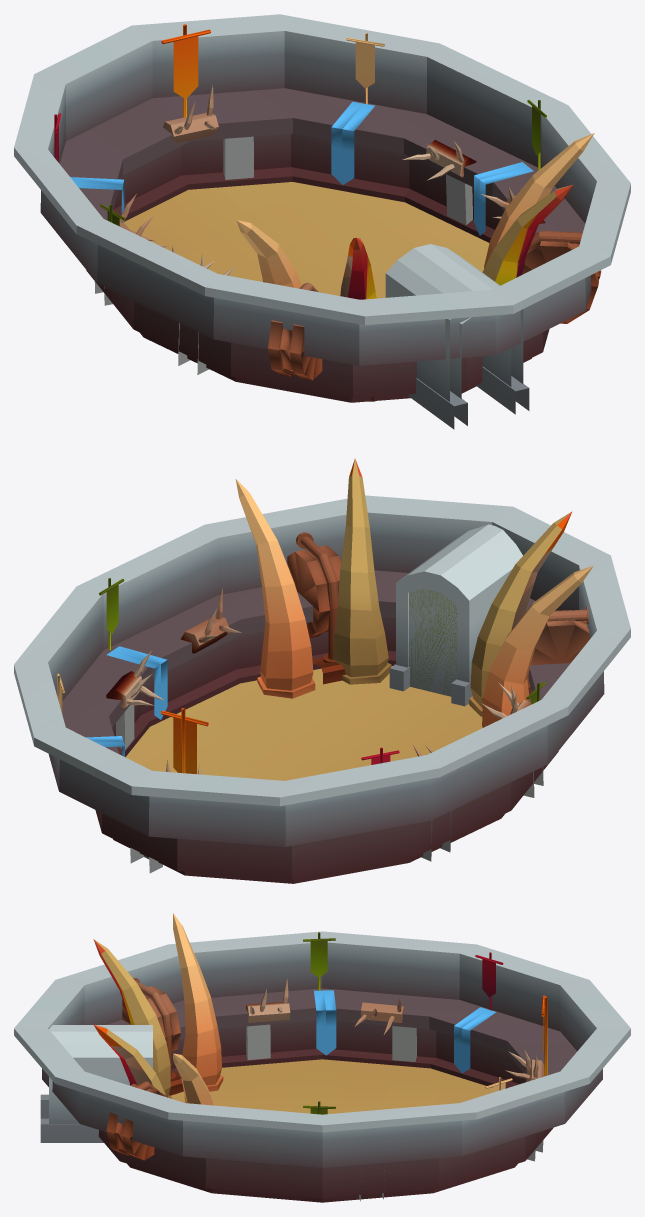
File: Arena.glb
The picture shows the model from 3 angles, top to bottom: view 1: azimuth 30°, elevation 25°; view 2: azimuth 150°, elevation 25°; view 3: azimuth 270°, elevation 25°; orthographic projection. The views are drawn at different scales.
Parts seen in each view (by area): view 1: Arena, Portal, Mechanism.002, Mechanism.005, Mechanism.003, Flags.002, Mechanism.001, Mechanism, FlagPole.003, Mechanism.004, WoodSpikes.003, Pillars.002 (+5 smaller); view 2: Arena, Portal, Mechanism.002, Mechanism.005, Mechanism.004, Mechanism.001, Mechanism, Mechanism.003, FlagPole.003, Flags.001, WoodSpikes.001, WoodSpikes.002 (+1 smaller); view 3: Arena, Portal, Mechanism.001, Mechanism.004, Mechanism.003, Mechanism.002, Mechanism, Flags, Flags.003, Mechanism.005, WoodSpikes.005, Pillars.003 (+5 smaller).
Boxes of the visible parts, box(x1,y1,x2,y2) form: Arena: box(14, 14, 630, 402); Portal: box(385, 244, 529, 429); Mechanism.002: box(482, 185, 572, 285); Mechanism.005: box(484, 133, 594, 268); Mechanism.003: box(268, 282, 322, 380); Flags.002: box(331, 101, 374, 184); Mechanism.001: box(236, 220, 301, 288); Mechanism: box(522, 229, 601, 323); FlagPole.003: box(161, 24, 210, 117); Mechanism.004: box(340, 237, 376, 401); WoodSpikes.003: box(163, 84, 218, 142); Pillars.002: box(223, 136, 253, 179); Arena: box(14, 495, 630, 883); Portal: box(389, 524, 522, 706); Mechanism.002: box(333, 458, 391, 684); Mechanism.005: box(235, 479, 315, 698); Mechanism.004: box(469, 511, 572, 716); Mechanism.001: box(482, 566, 593, 727); Mechanism: box(287, 532, 345, 684); Mechanism.003: box(527, 606, 589, 692); FlagPole.003: box(160, 708, 208, 773); Flags.001: box(106, 646, 167, 719); WoodSpikes.001: box(180, 588, 241, 653); WoodSpikes.002: box(106, 650, 164, 709); Arena: box(14, 931, 630, 1202); Portal: box(40, 1025, 152, 1142); Mechanism.001: box(173, 913, 223, 1091); Mechanism.004: box(93, 939, 171, 1098); Mechanism.003: box(122, 978, 183, 1095); Mechanism.002: box(93, 1024, 165, 1095); Mechanism: box(106, 1081, 167, 1160); Flags: box(314, 990, 336, 1055); Flags.003: box(454, 1007, 495, 1073); Mechanism.005: box(173, 1053, 213, 1105); WoodSpikes.005: box(246, 978, 290, 1022); Pillars.003: box(392, 1026, 416, 1061).
Size of the model in its own units: 12.83 by 4.83 by 17.25.
13 materials, 11 textured.
